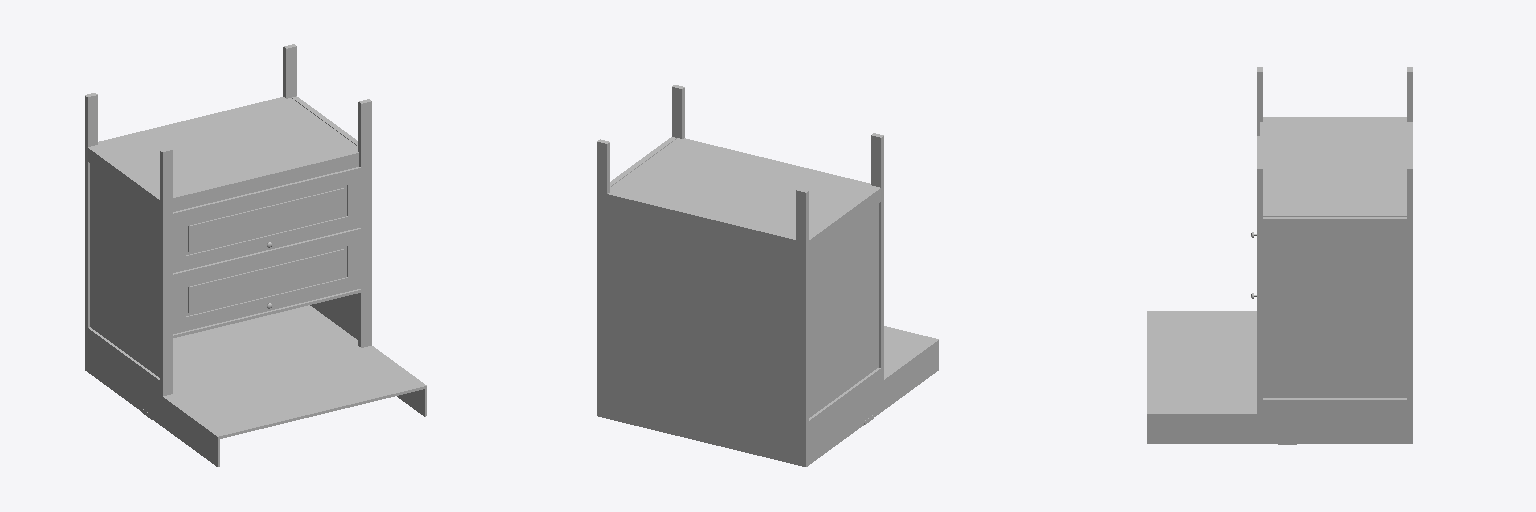
The model's file is ChangingTable_SundvikWhite.obj.
The picture shows the model from 3 angles: view 1: azimuth 30°, elevation 25°; view 2: azimuth 150°, elevation 25°; view 3: azimuth 270°, elevation 25°; orthographic projection.
Parts seen in each view (by area): view 1: obj_0; view 2: obj_0; view 3: obj_0.
Boxes of the visible parts, x1=… form: obj_0: x1=85, y1=44, x2=426, y2=466; obj_0: x1=597, y1=85, x2=938, y2=466; obj_0: x1=1147, y1=67, x2=1412, y2=444.
Size of the model in its own units: 79.3 by 99.2 by 87.